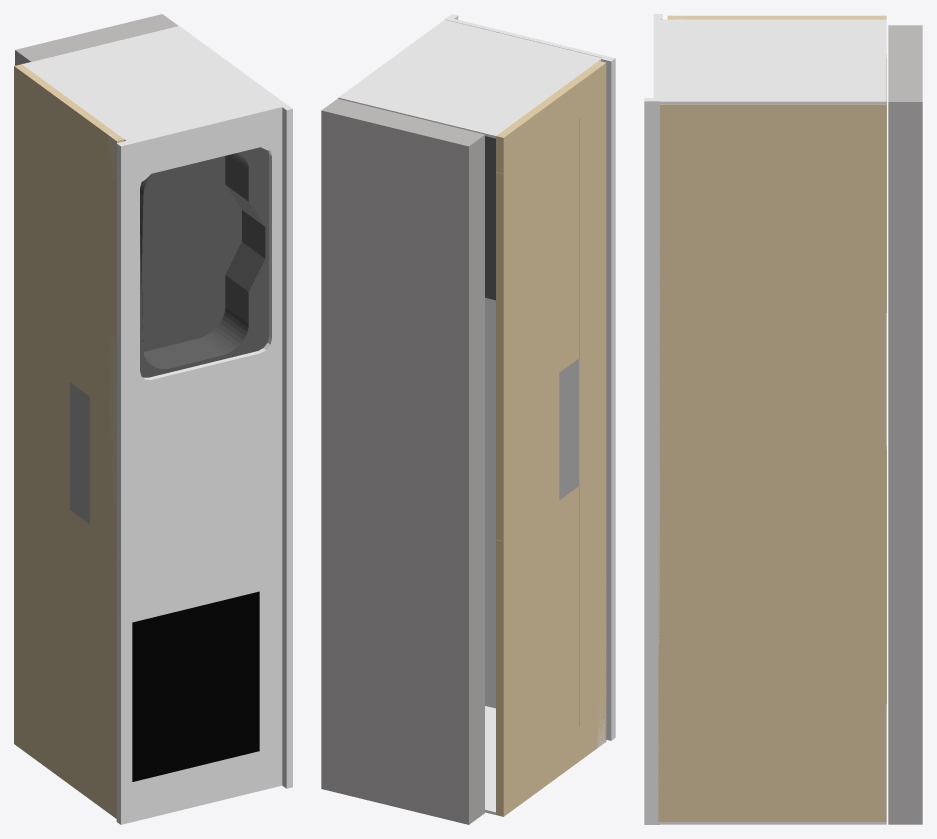
Rendered from nil_link_mesh.dae.
The picture shows the model from 3 angles, left to right: view 1: azimuth 30°, elevation 25°; view 2: azimuth 150°, elevation 25°; view 3: azimuth 270°, elevation 25°; orthographic projection. The views are drawn at different scales.
Parts seen in each view (by area): view 1: nil_link (×17); view 2: nil_link (×16); view 3: nil_link (×6).
Boxes of the visible parts, <box> form: nil_link (×17): <box>14,14,292,824</box>; nil_link (×16): <box>321,14,615,824</box>; nil_link (×6): <box>644,14,922,824</box>.
Bounding box in the file's own units: 0.66 × 2.55 × 0.89.
